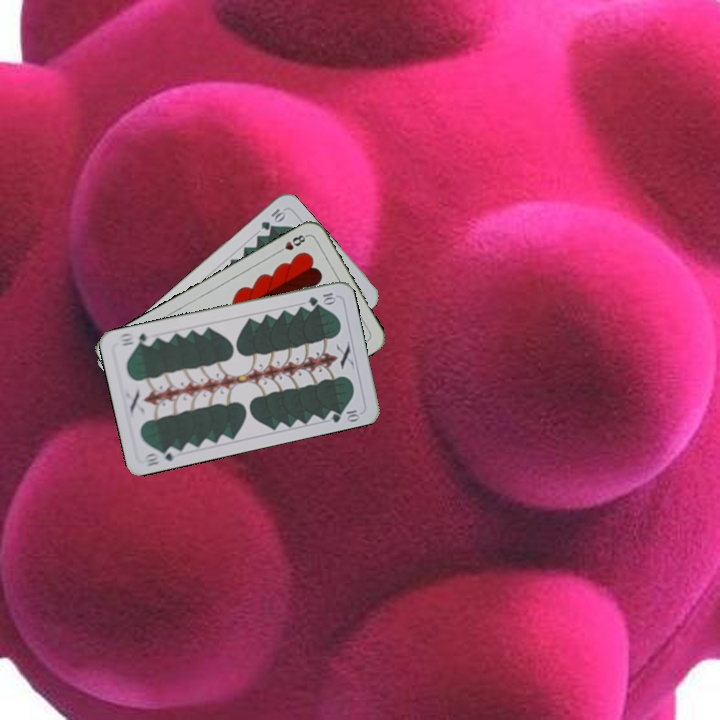G10: (141, 443, 181, 469), (257, 204, 288, 233), (304, 288, 338, 308)
H8: (273, 230, 310, 256)
